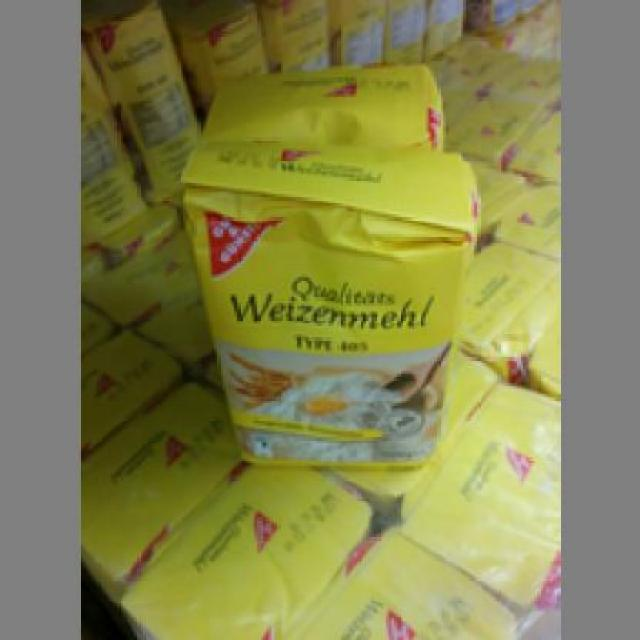Flour: (180, 60, 474, 469)
